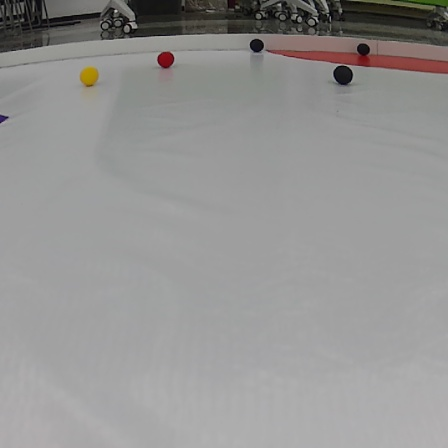black: (331, 66, 356, 88), (249, 38, 268, 56), (353, 42, 368, 54)
red: (157, 51, 174, 68)
red_base: (271, 46, 445, 78)
yellow: (79, 65, 99, 87)
